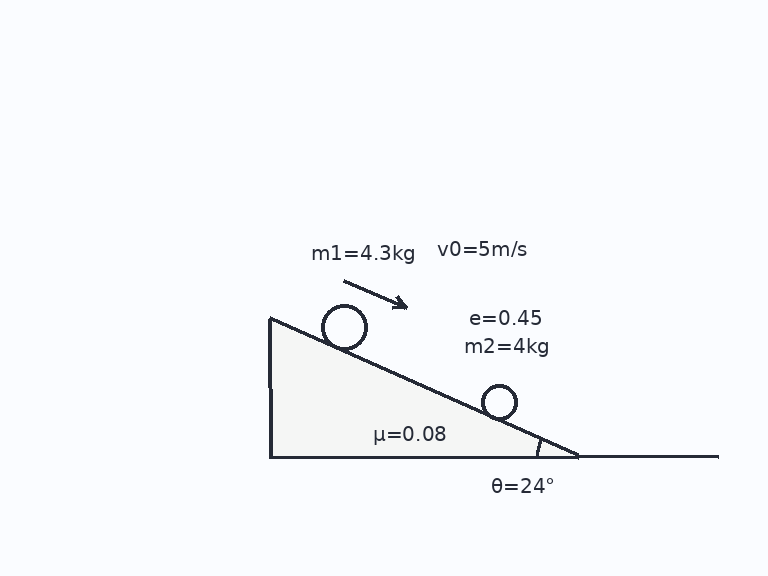ball: (319, 302, 369, 352), (479, 382, 519, 422)
ramp: (267, 317, 579, 458)
